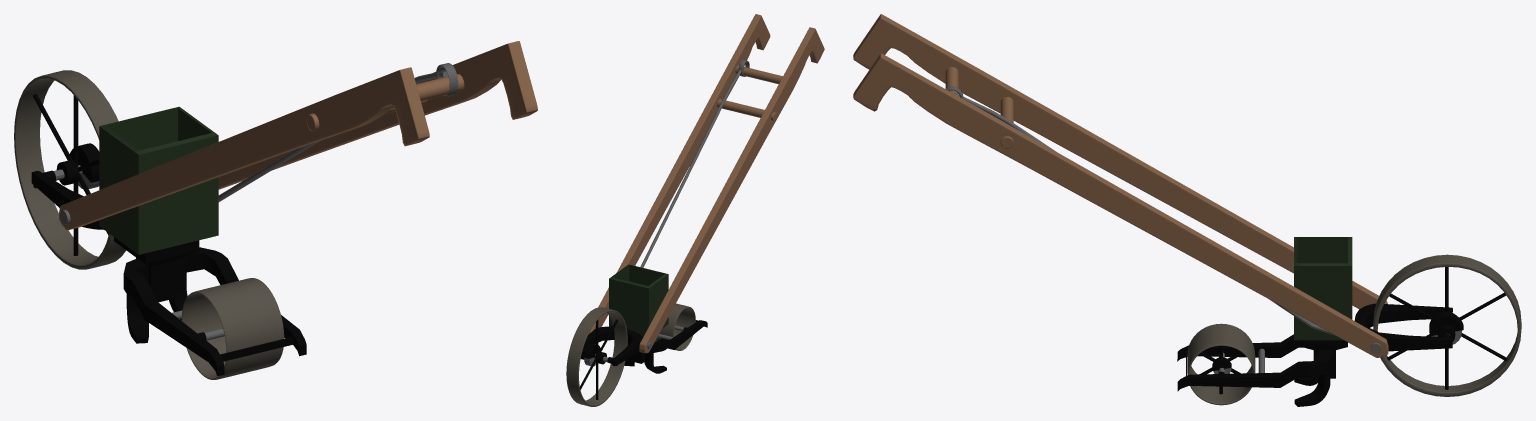
The model's file is trowel.glb.
The picture shows the model from 3 angles, left to right: view 1: azimuth 30°, elevation 25°; view 2: azimuth 150°, elevation 25°; view 3: azimuth 270°, elevation 25°; orthographic projection. The views are drawn at different scales.
Parts seen in each view (by area): view 1: seeder; view 2: seeder; view 3: seeder.
Part boxes in pixels (box(x1,y1,x2,y2)): seeder: box(14, 41, 537, 379); seeder: box(566, 14, 824, 406); seeder: box(853, 14, 1521, 406).
Size of the model in its own units: 2.36 by 8.54 by 14.4.
